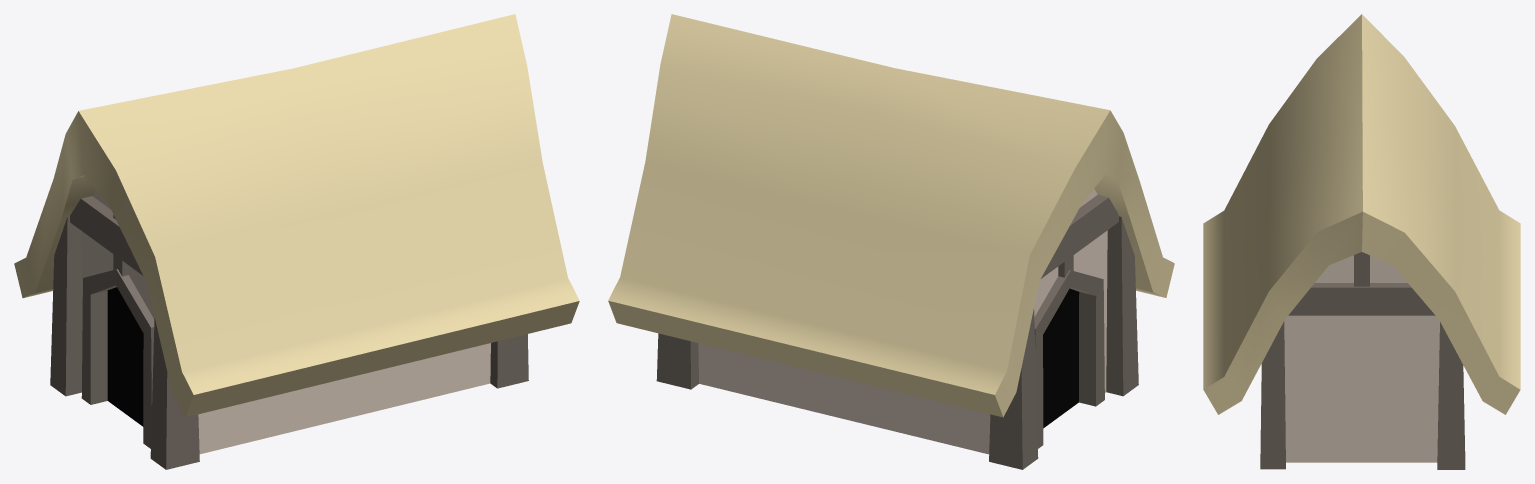
Rendered from MESH_House.fbx.
The picture shows the model from 3 angles, left to right: view 1: azimuth 30°, elevation 25°; view 2: azimuth 150°, elevation 25°; view 3: azimuth 270°, elevation 25°; orthographic projection. The views are drawn at different scales.
Visible parts, largest first — view 1: MESH_House; view 2: MESH_House; view 3: MESH_House.
Part boxes in pixels (x1,y1,x2,y2): MESH_House: (14,14,579,469); MESH_House: (608,14,1174,469); MESH_House: (1203,14,1520,469).
Size of the model in its own units: 352 by 249 by 250.
